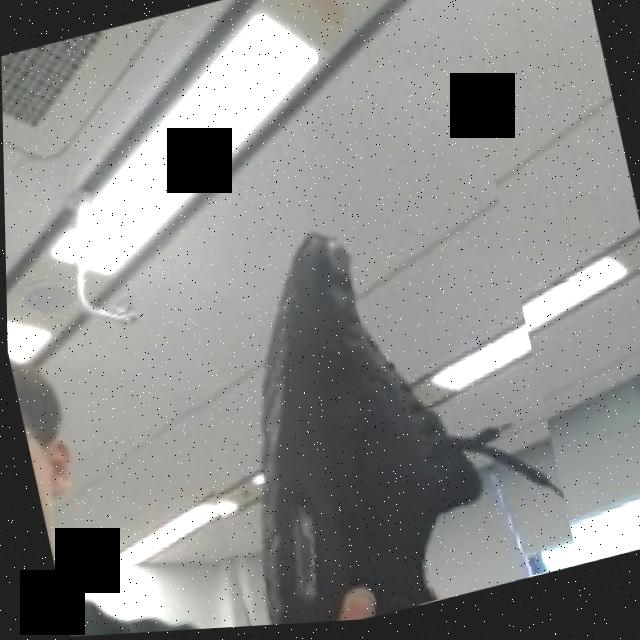shoe: (144, 161, 576, 633)
